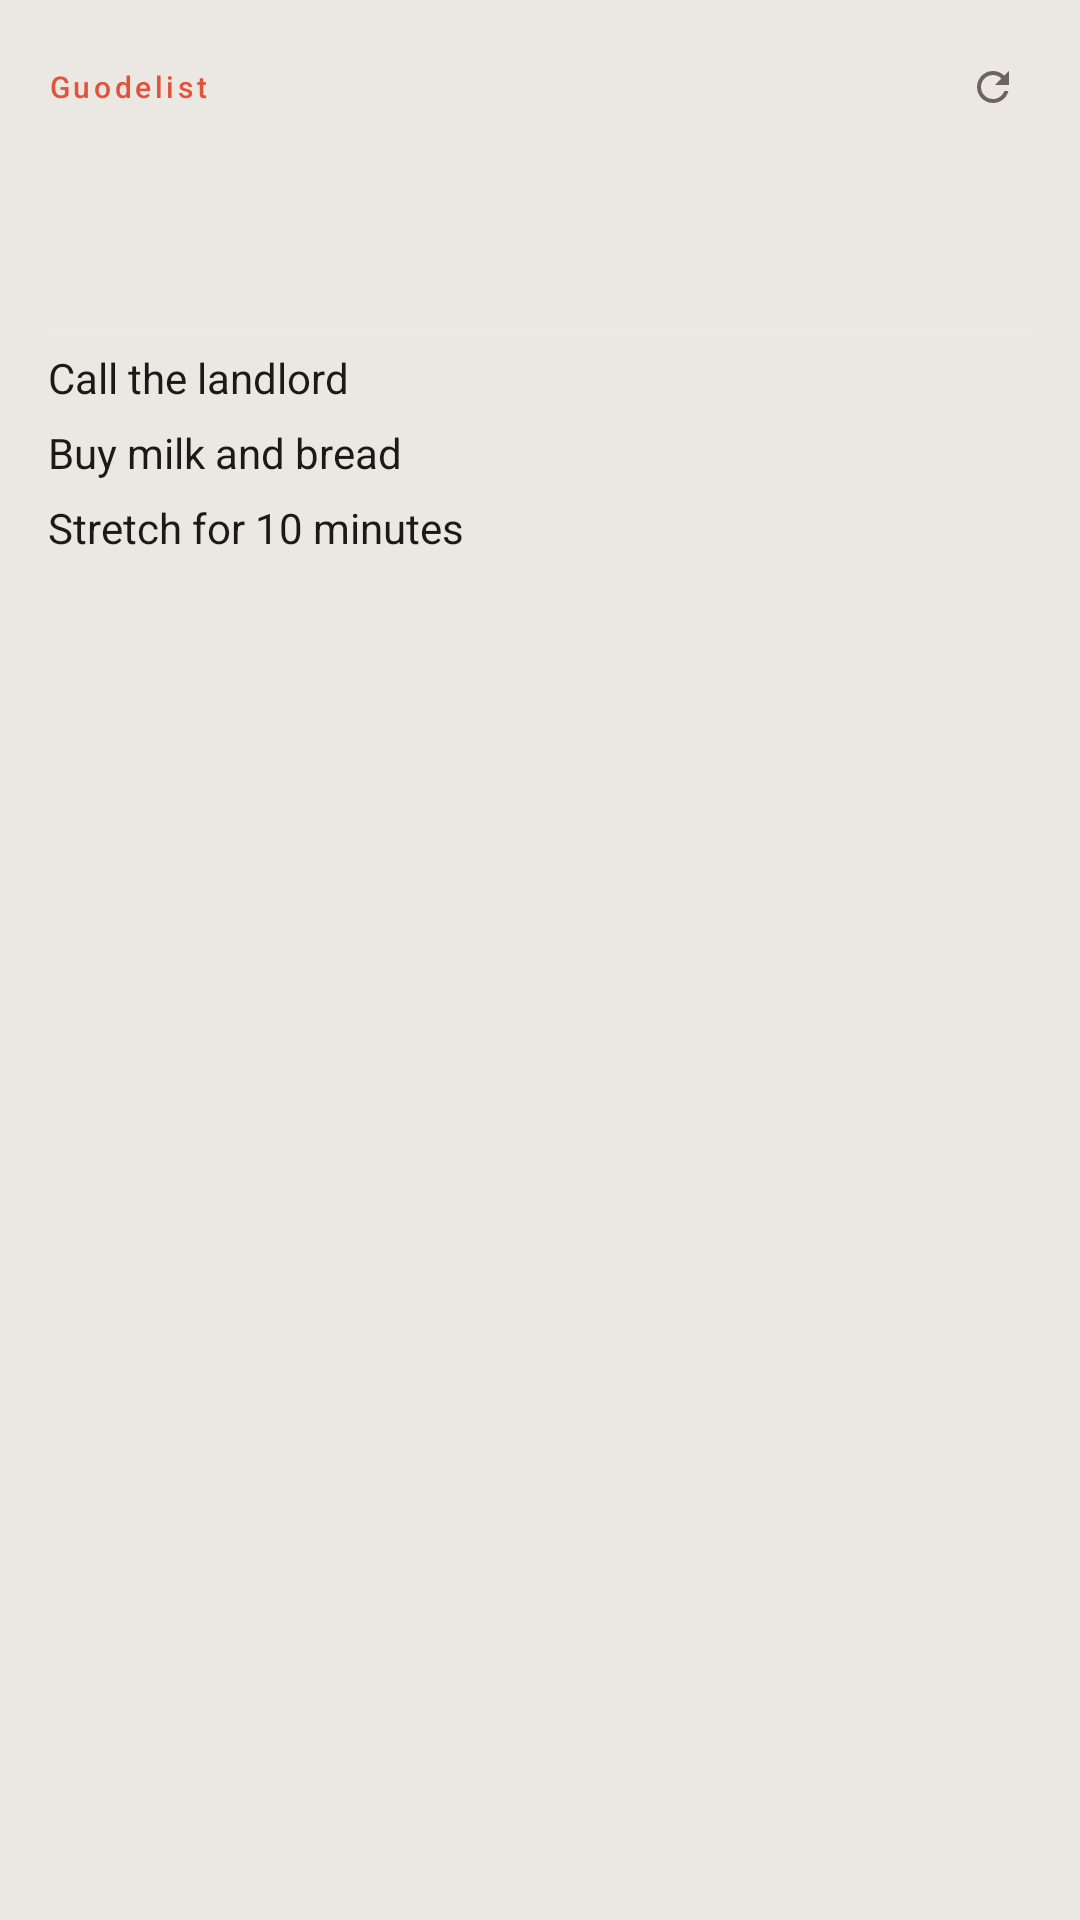

Where icons sit on this 1080*1920 app screen, as (x1, y1, x2, y2):
Refresh: (977, 71, 1009, 103)
